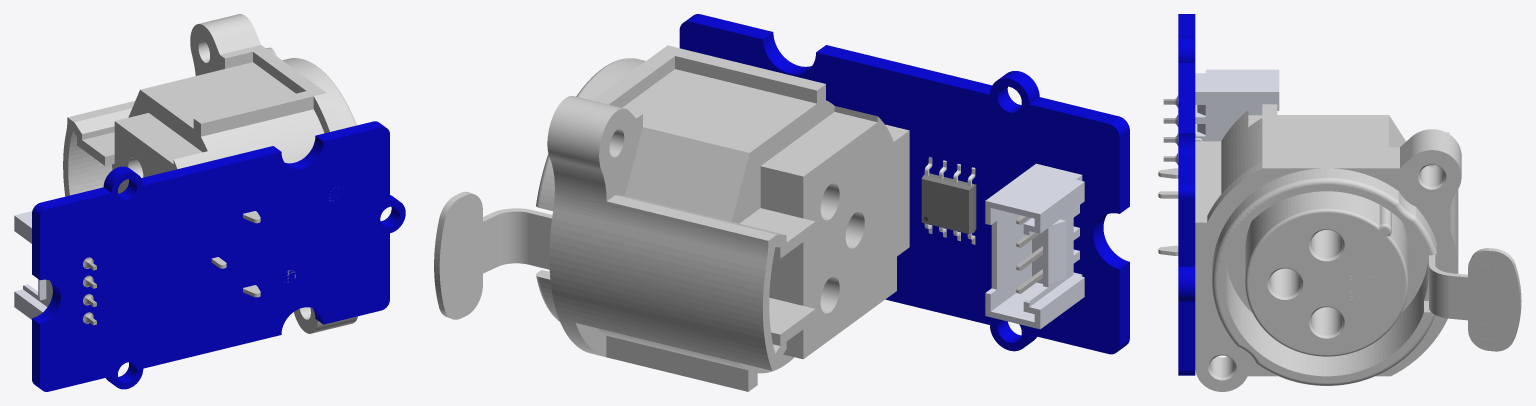
Rendered from connecteur-dmx-grove-1.snapshot.2.glb.
3 views of the same model, side by side, from view 1: azimuth 30°, elevation 25°; view 2: azimuth 150°, elevation 25°; view 3: azimuth 270°, elevation 25° (orthographic). The views are drawn at different scales.
Visible parts, largest first — view 1: Node1, Node2, Node4, Node3; view 2: Node2, Node1, Node4, Node6, Node3, Node5; view 3: Node2, Node1, Node4, Node3.
Part boxes in pixels (x1,y1,x2,y2): Node1: (32,121,405,391); Node2: (63,14,357,333); Node4: (14,211,52,319); Node3: (83,257,96,325); Node2: (434,45,909,391); Node1: (679,14,1129,354); Node4: (985,163,1084,329); Node6: (921,156,976,233); Node3: (1016,215,1042,293); Node5: (924,158,975,244); Node2: (1158,104,1521,391); Node1: (1178,14,1195,375); Node4: (1195,69,1279,141); Node3: (1163,95,1178,164).
Bounding box in the file's own units: 44.49 × 25.36 × 34.5.
